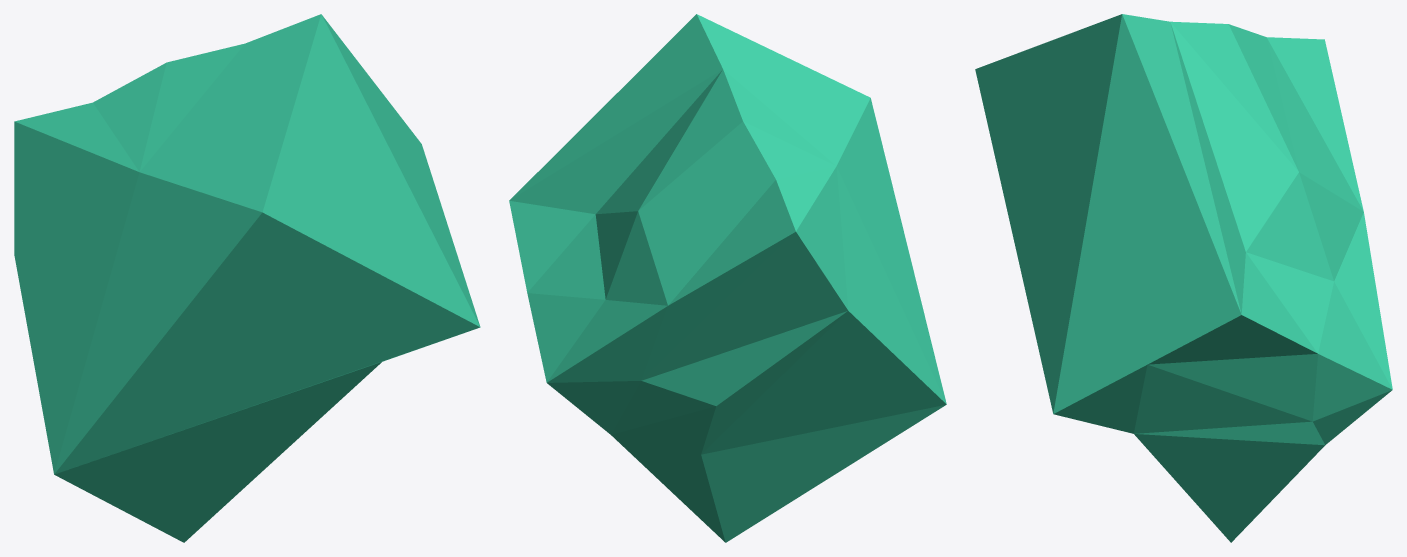
The model's file is debris4.fbx.
3 views of the same model, side by side, from view 1: azimuth 30°, elevation 25°; view 2: azimuth 150°, elevation 25°; view 3: azimuth 270°, elevation 25° (orthographic). The views are drawn at different scales.
Visible parts, largest first — view 1: pCube166; view 2: pCube166; view 3: pCube166.
Boxes of the visible parts, <box> form: pCube166: <box>14,14,480,542</box>; pCube166: <box>509,14,946,542</box>; pCube166: <box>975,14,1392,542</box>.
Bounding box in the file's own units: 1.49 × 1.79 × 1.18.
